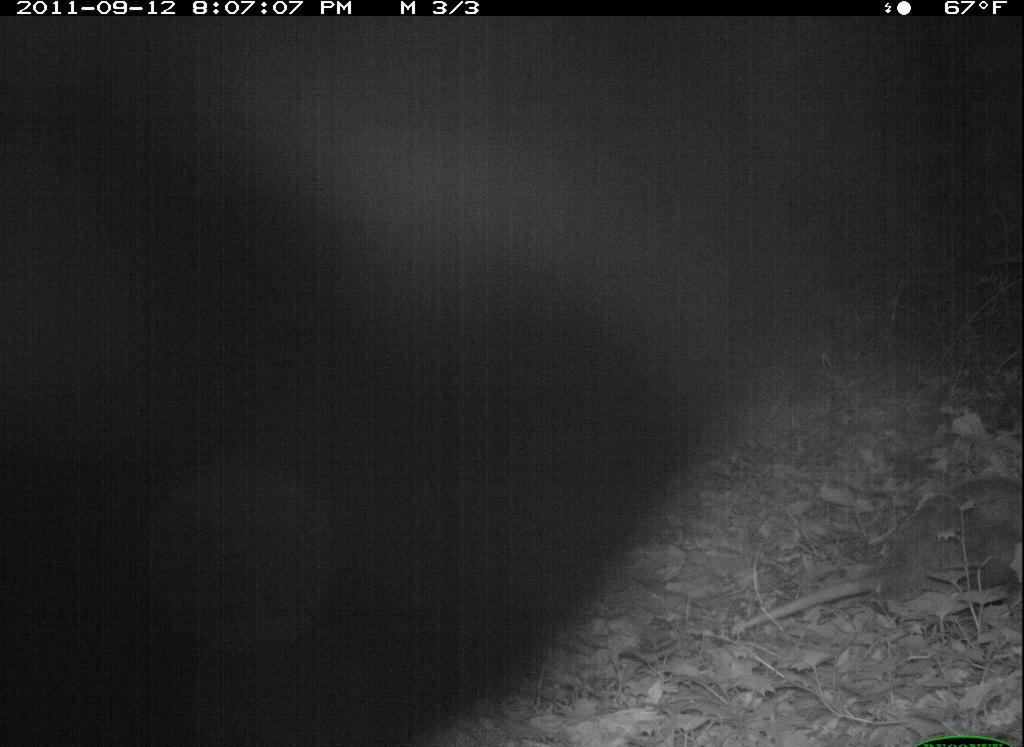opossum: (728, 464, 1023, 697)
